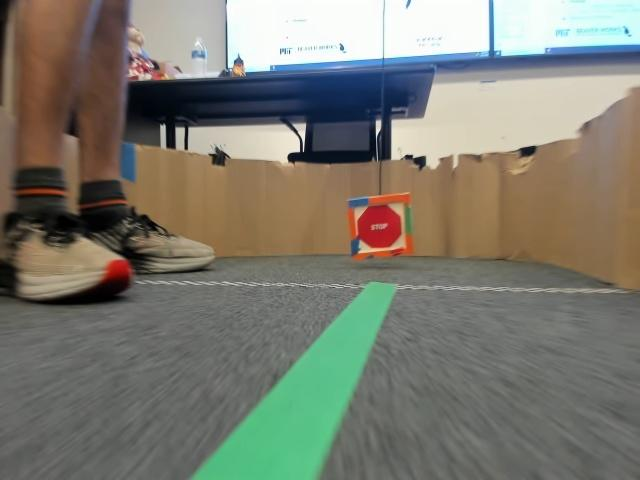Stop: (355, 207, 398, 250)
